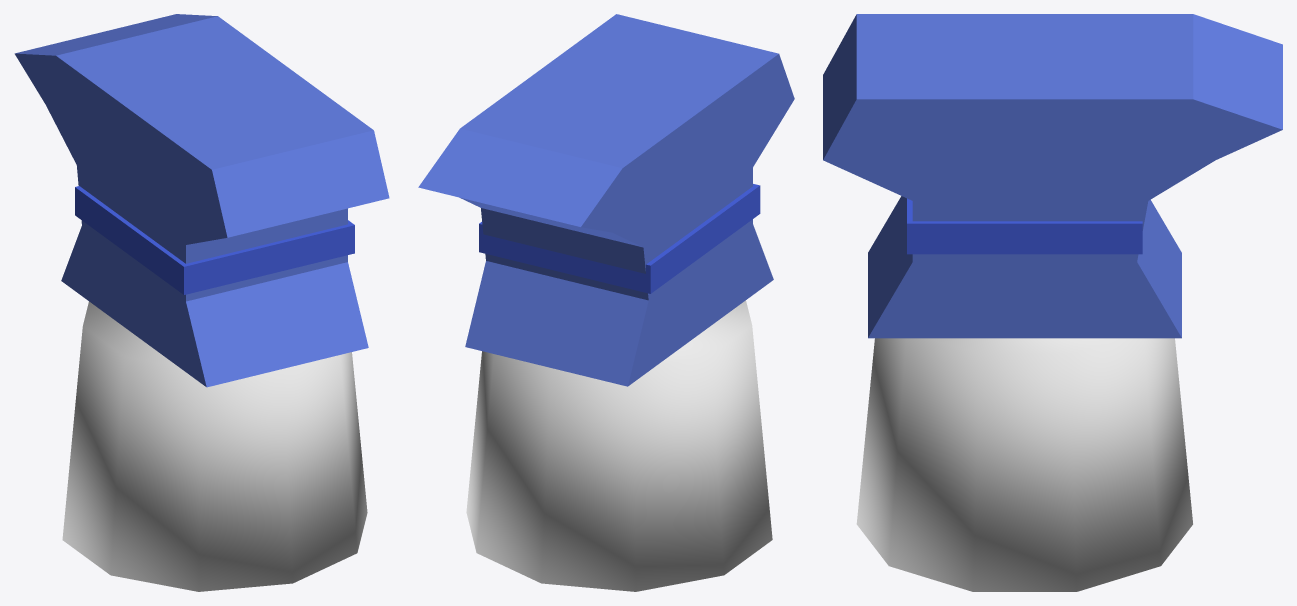
The model's file is autohammer_v0.glb.
The picture shows the model from 3 angles, left to right: view 1: azimuth 30°, elevation 25°; view 2: azimuth 150°, elevation 25°; view 3: azimuth 270°, elevation 25°; orthographic projection. The views are drawn at different scales.
Parts seen in each view (by area): view 1: autohammer_v0; view 2: autohammer_v0; view 3: autohammer_v0.
Boxes of the visible parts, x1,y1,x2,y2 form: autohammer_v0: (14, 14, 389, 591); autohammer_v0: (418, 14, 794, 591); autohammer_v0: (823, 14, 1282, 591).
Size of the model in its own units: 0.5706 by 0.92 by 0.82.
